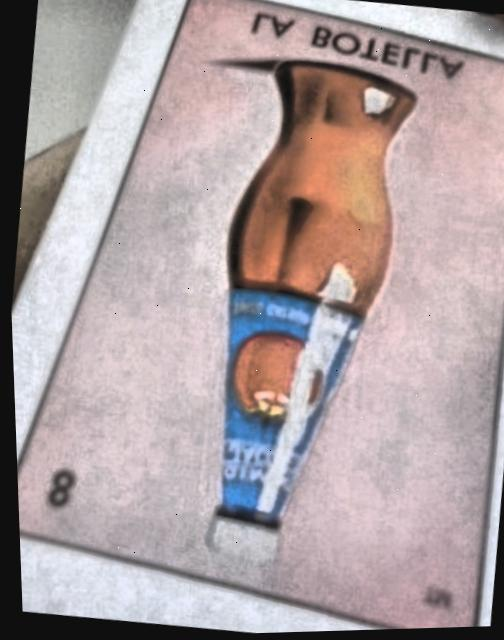La Botella: (14, 0, 504, 631)
